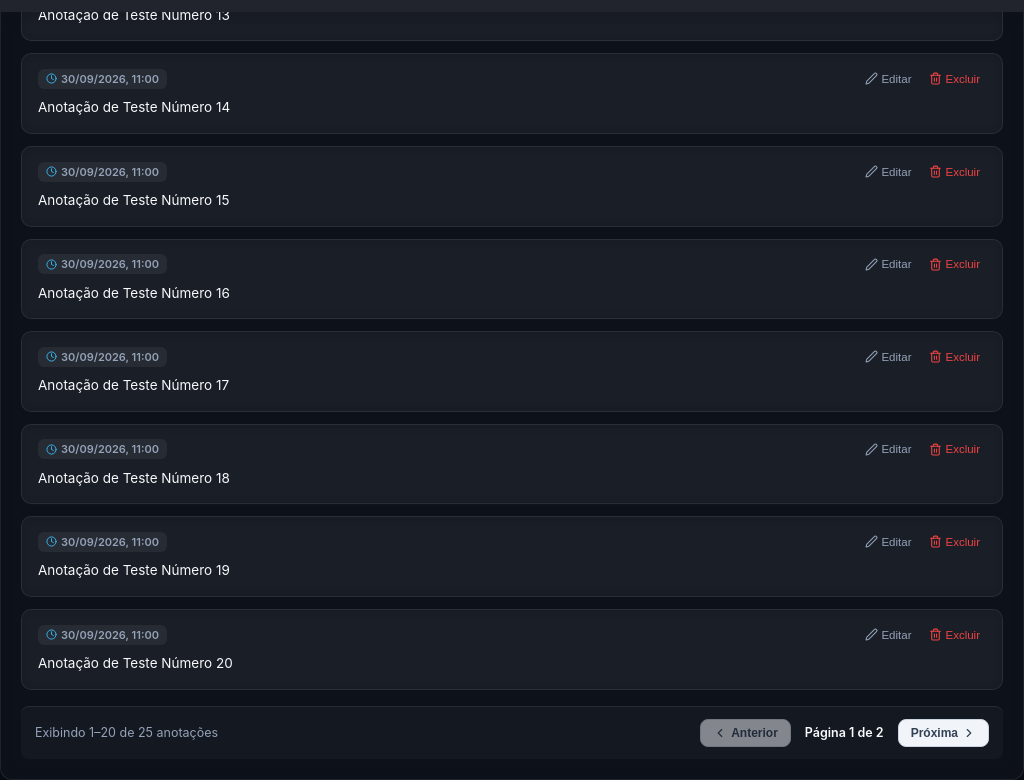
LessonNotes Component & Badges › paginates notes to show only 20 per page and allows navigation
(page scrolled)
Expected: the text "Anotação de Teste Número 20" is shown, [38,655,233,671]
Expected: the text "Anotação de Teste Número 21" is not shown
Clica em Próxima
Click the button with test id "next-notes-page-btn". click: point(943, 733)
box: [898,719,989,747]
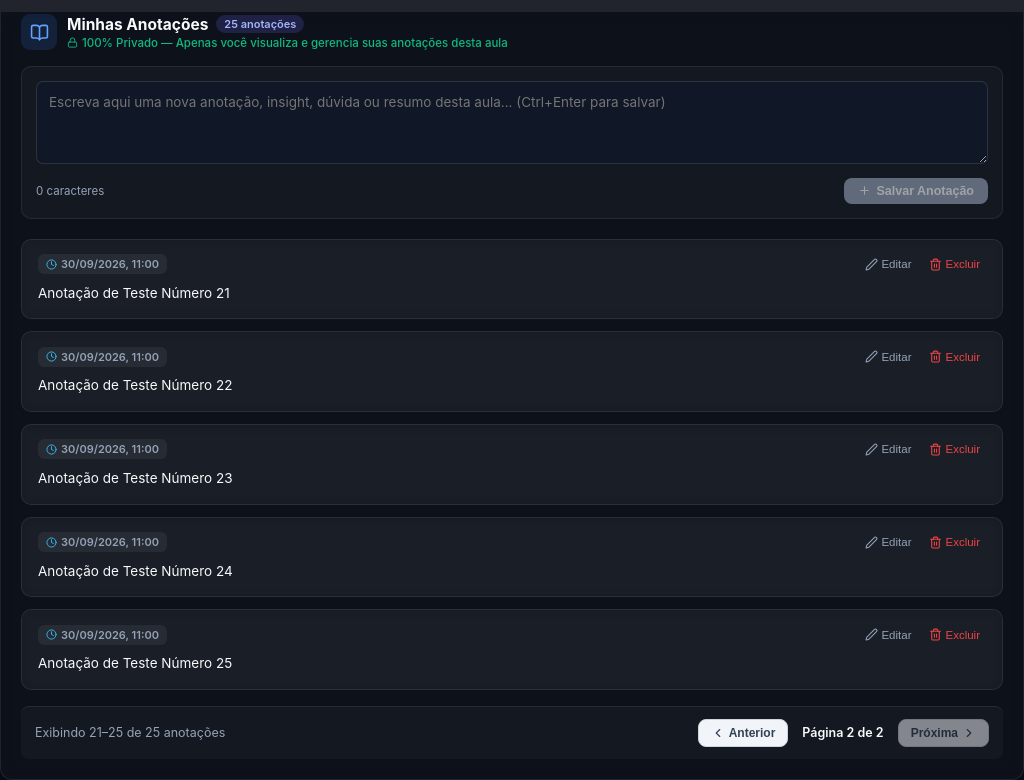
Expected: the text "Anotação de Teste Número 21" is shown, [38,285,230,301]
Expected: the text "Anotação de Teste Número 25" is shown, [38,655,232,671]
Expected: the text "Exibindo 21–25 de 25 anotações" is shown, [35,725,225,740]
Clica em Anterior para voltar
Click the button with test id "prev-notes-page-btn". click: point(743, 733)
box: [698,719,788,747]
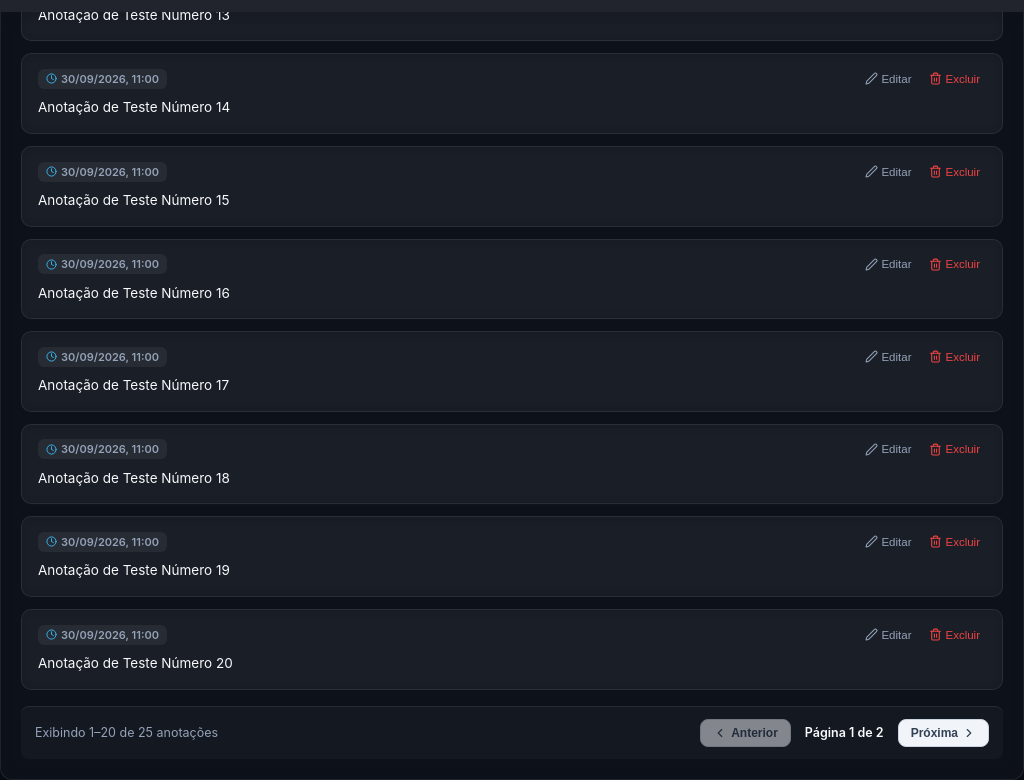
Expected: the text "Página 1 de 2" is shown, [799,725,890,740]
